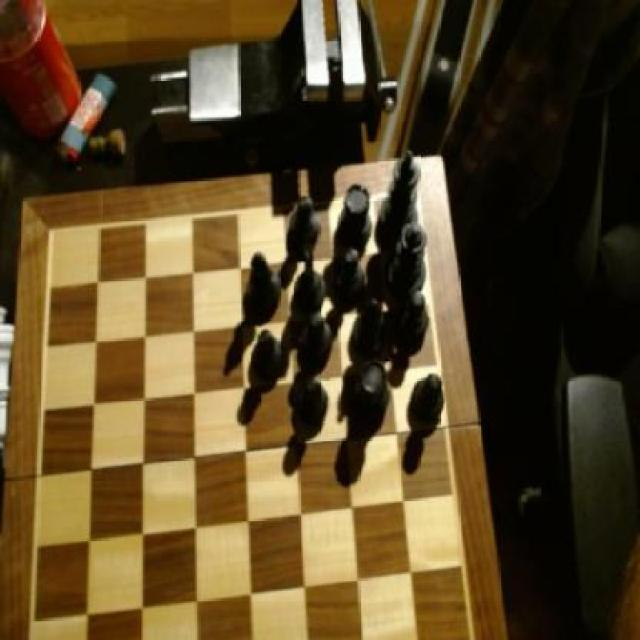bishop: (242, 254, 283, 319), (352, 288, 388, 362)
black-bishop: (378, 149, 420, 253)
black-king: (296, 249, 328, 316)
black-knight: (288, 195, 323, 253), (396, 292, 432, 344), (332, 246, 365, 302), (411, 376, 445, 428), (302, 312, 336, 363), (252, 329, 287, 377), (298, 376, 331, 422)
black-pawn: (386, 223, 427, 301)
black-queen: (356, 357, 392, 422), (340, 186, 374, 251)
